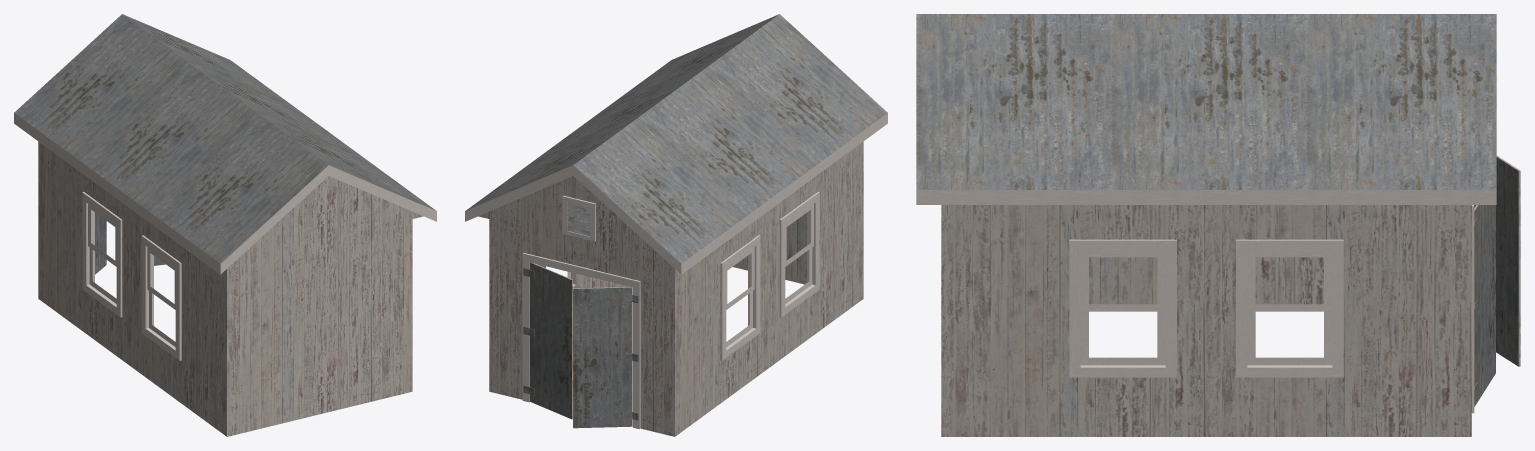
The picture shows the model from 3 angles, left to right: view 1: azimuth 30°, elevation 25°; view 2: azimuth 150°, elevation 25°; view 3: azimuth 270°, elevation 25°; orthographic projection. The views are drawn at different scales.
Visible parts, largest first — view 1: Material2 (×3); view 2: Material2 (×3); view 3: Material2 (×3).
Part boxes in pixels (x1,y1,x2,y2): Material2 (×3): (14,14,436,436); Material2 (×3): (465,14,887,436); Material2 (×3): (916,14,1520,436).
Bounding box in the file's own units: 126 × 142 × 217.
4 materials, 3 textured.
